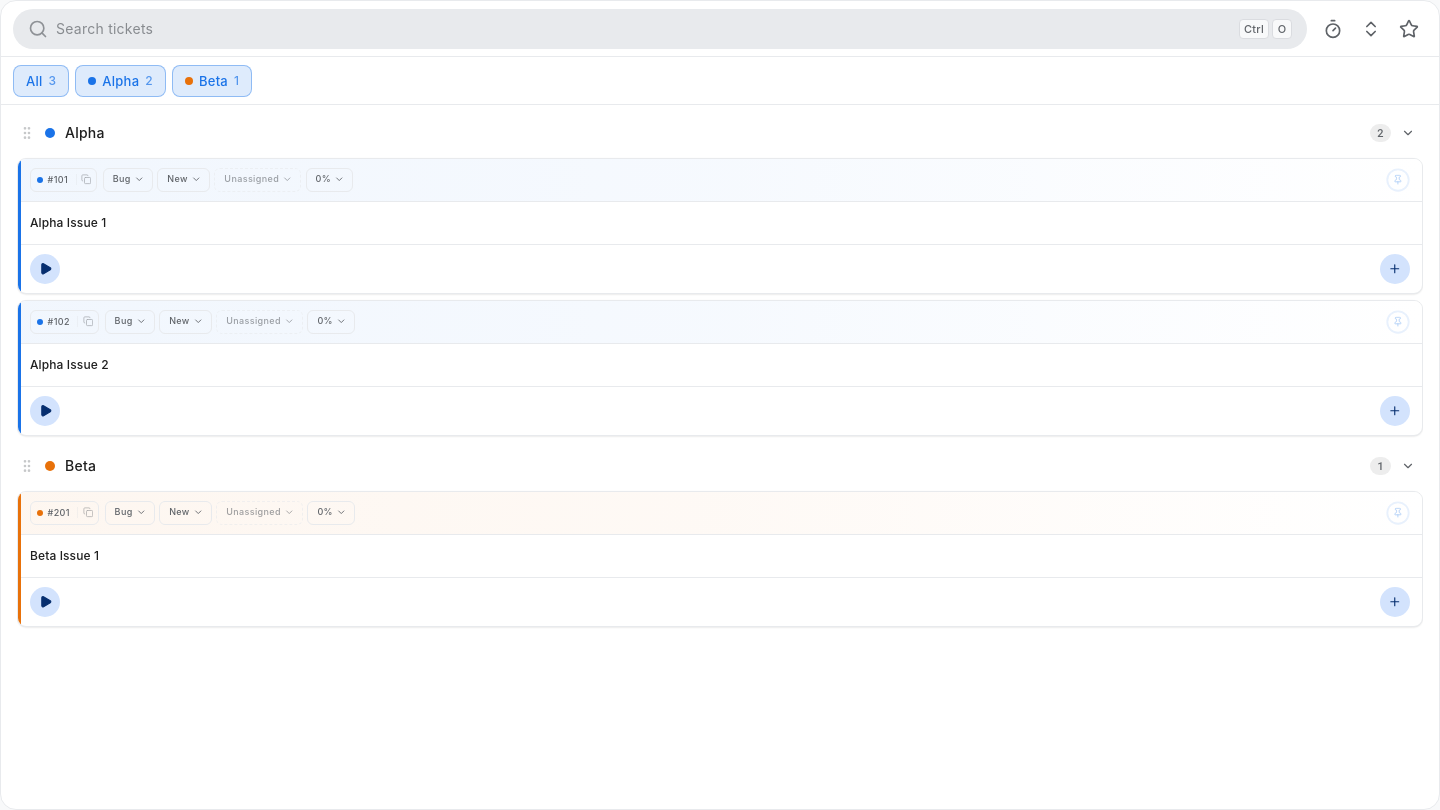
TicketList › collapse single project group only collapses that group
Click the 2nd button "Alpha 2" at (85, 132), box [37,113,1423,153]
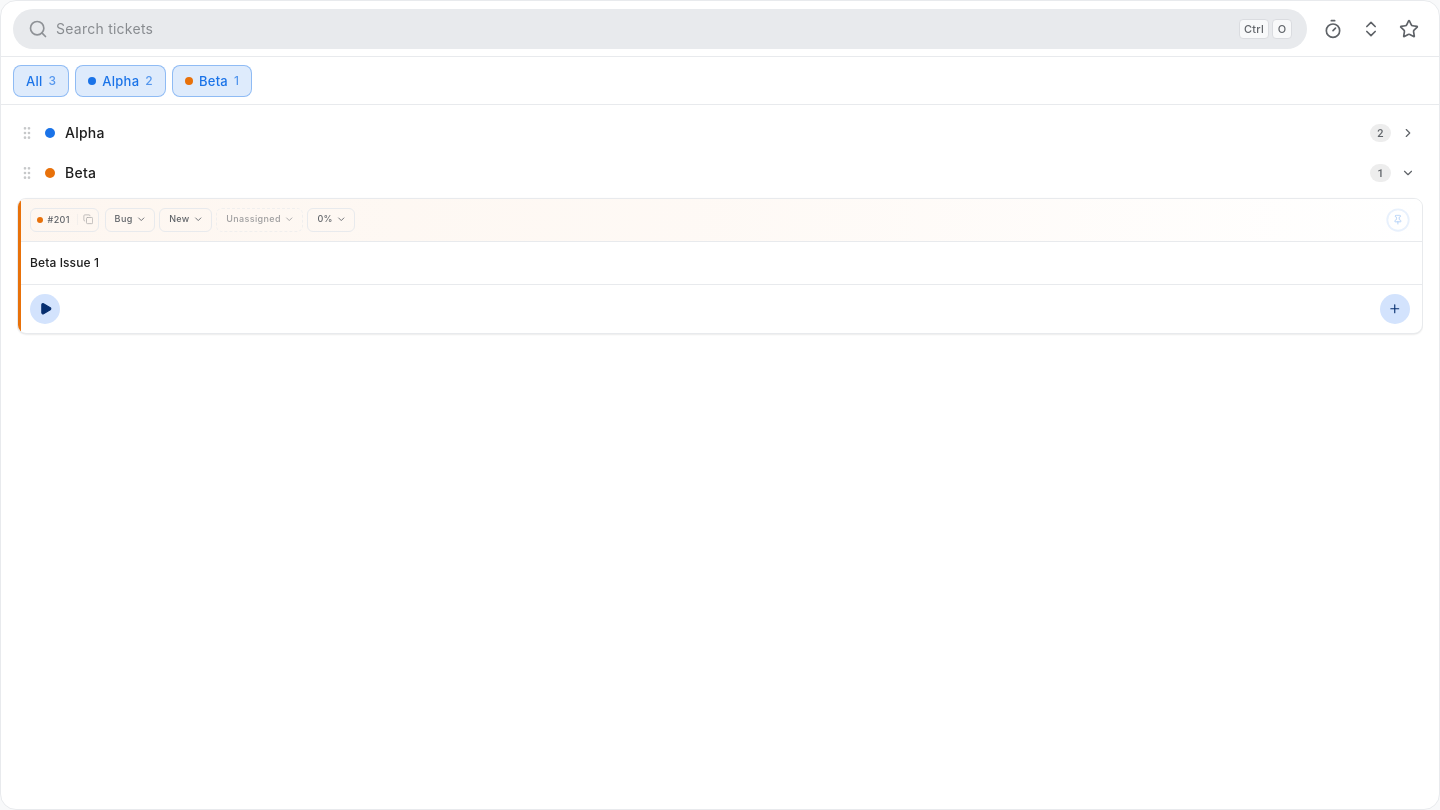
Now the 2nd button "Alpha 2" is collapsed, box [37,113,1423,153]
